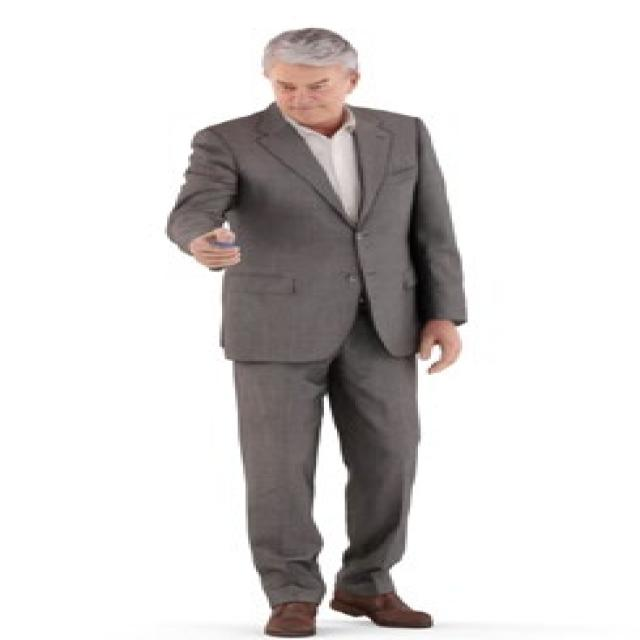standing: (158, 25, 474, 640)
